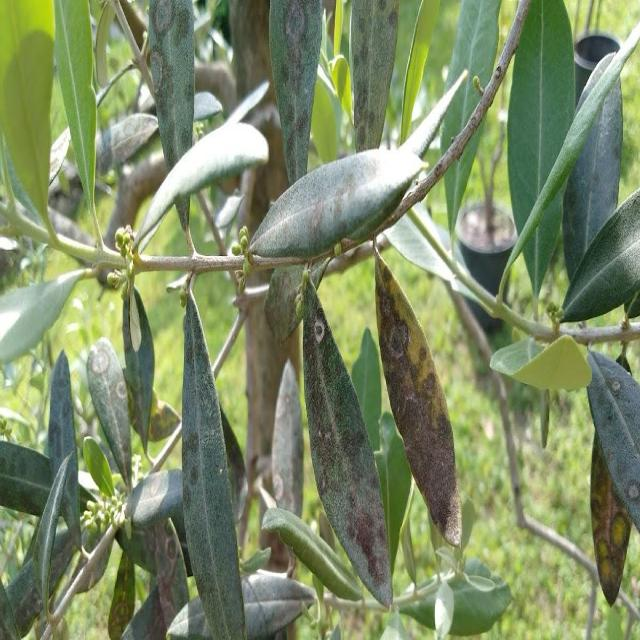Peacock Eye: (302, 280, 392, 606), (375, 254, 461, 546), (182, 292, 246, 639), (270, 0, 323, 184), (587, 349, 639, 532), (148, 0, 194, 171), (590, 436, 632, 605), (351, 0, 398, 151), (86, 337, 131, 486), (48, 350, 81, 546)
